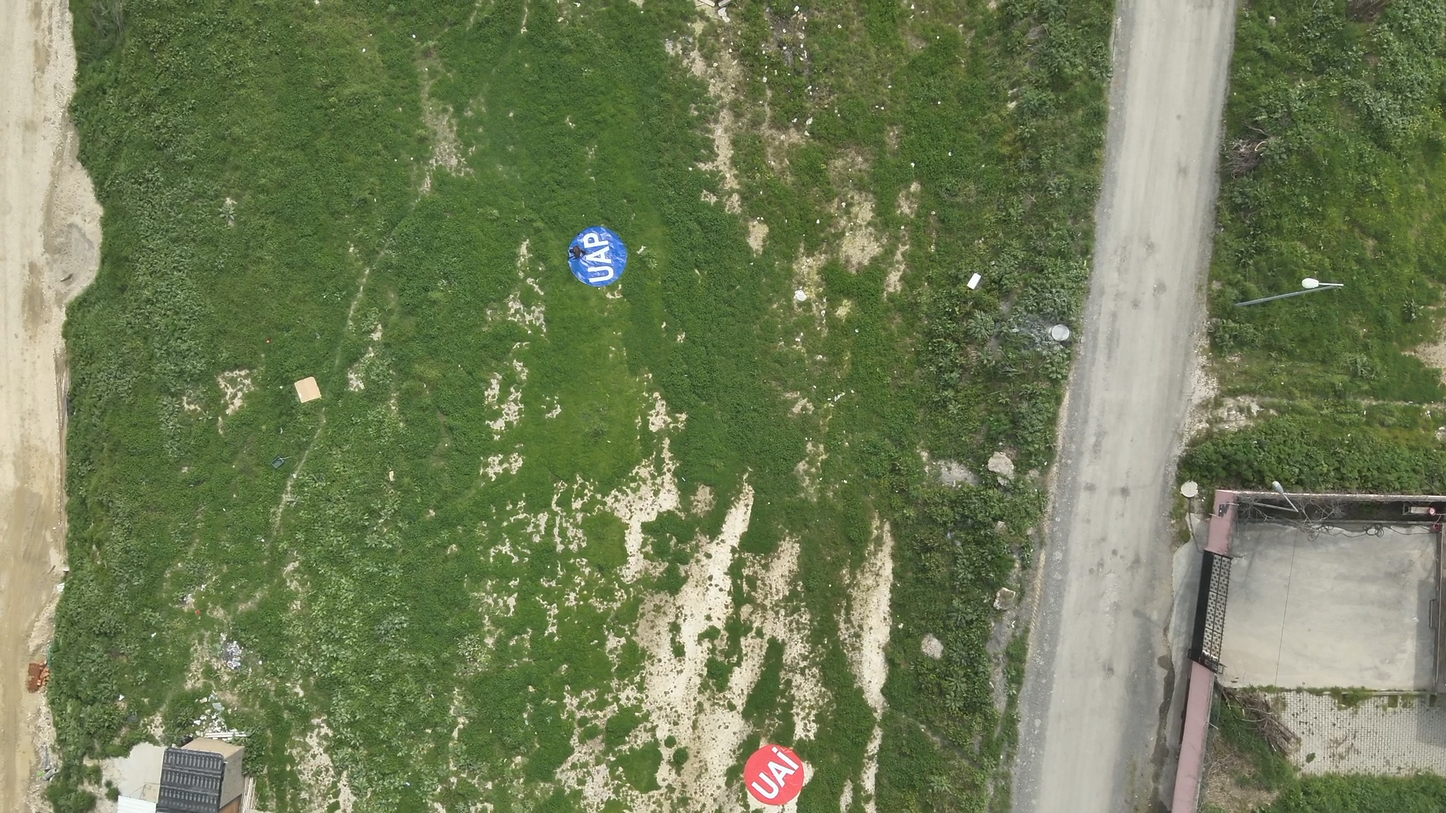UAI: (745, 741, 806, 805)
UAP: (568, 226, 629, 286)
person: (568, 243, 589, 263)
